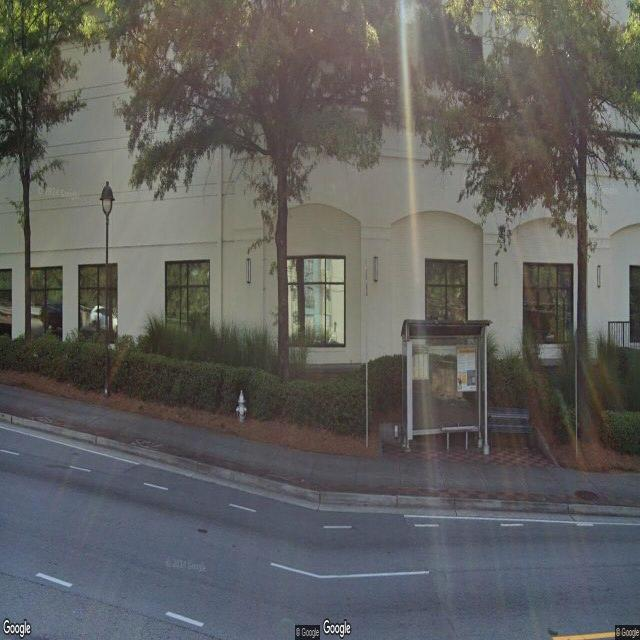seating: (488, 406, 532, 452), (442, 424, 476, 454)
shelter: (402, 320, 493, 459)
